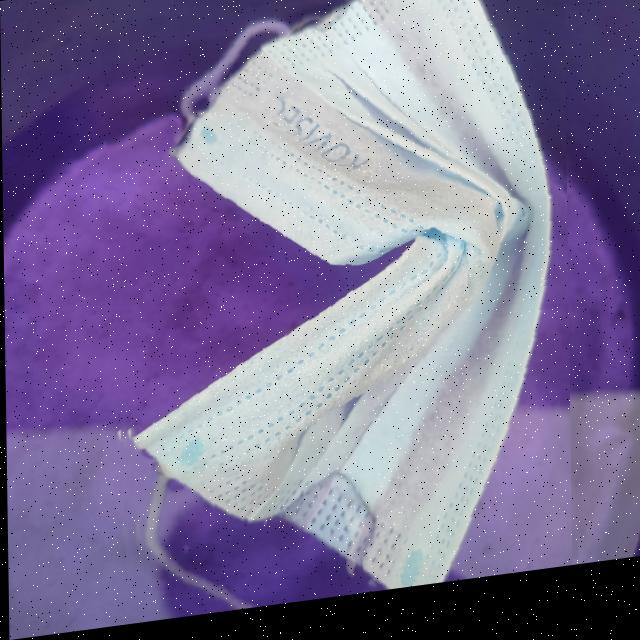mask: (104, 0, 570, 629)
